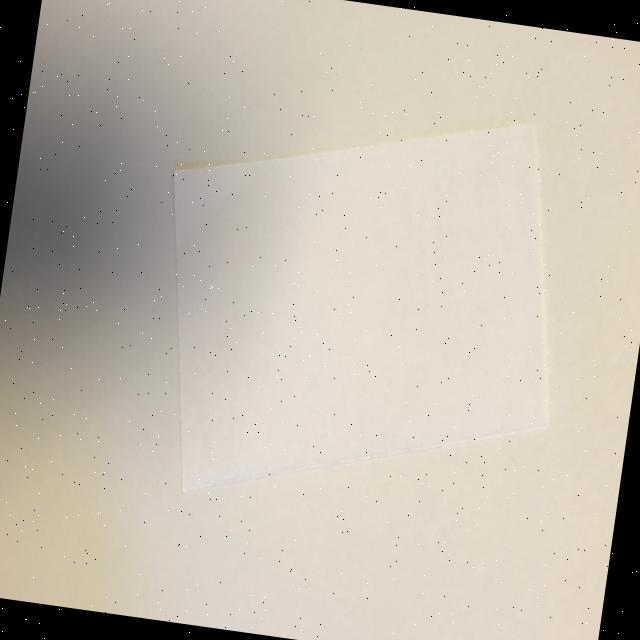paper: (128, 74, 590, 542)
